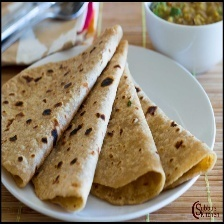sabzi: (146, 0, 223, 27)
